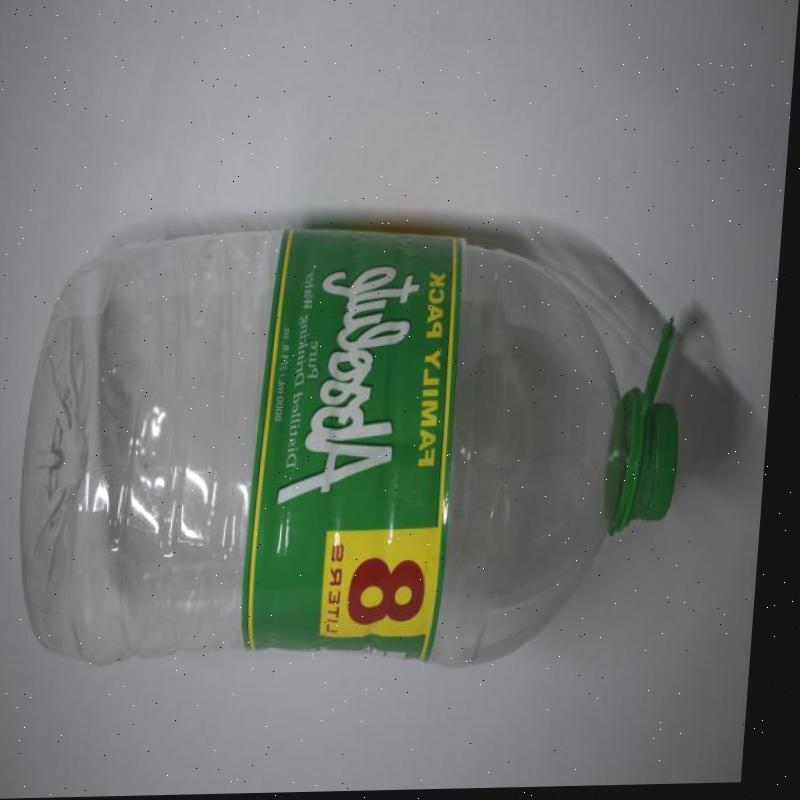botella: (20, 230, 698, 680)
